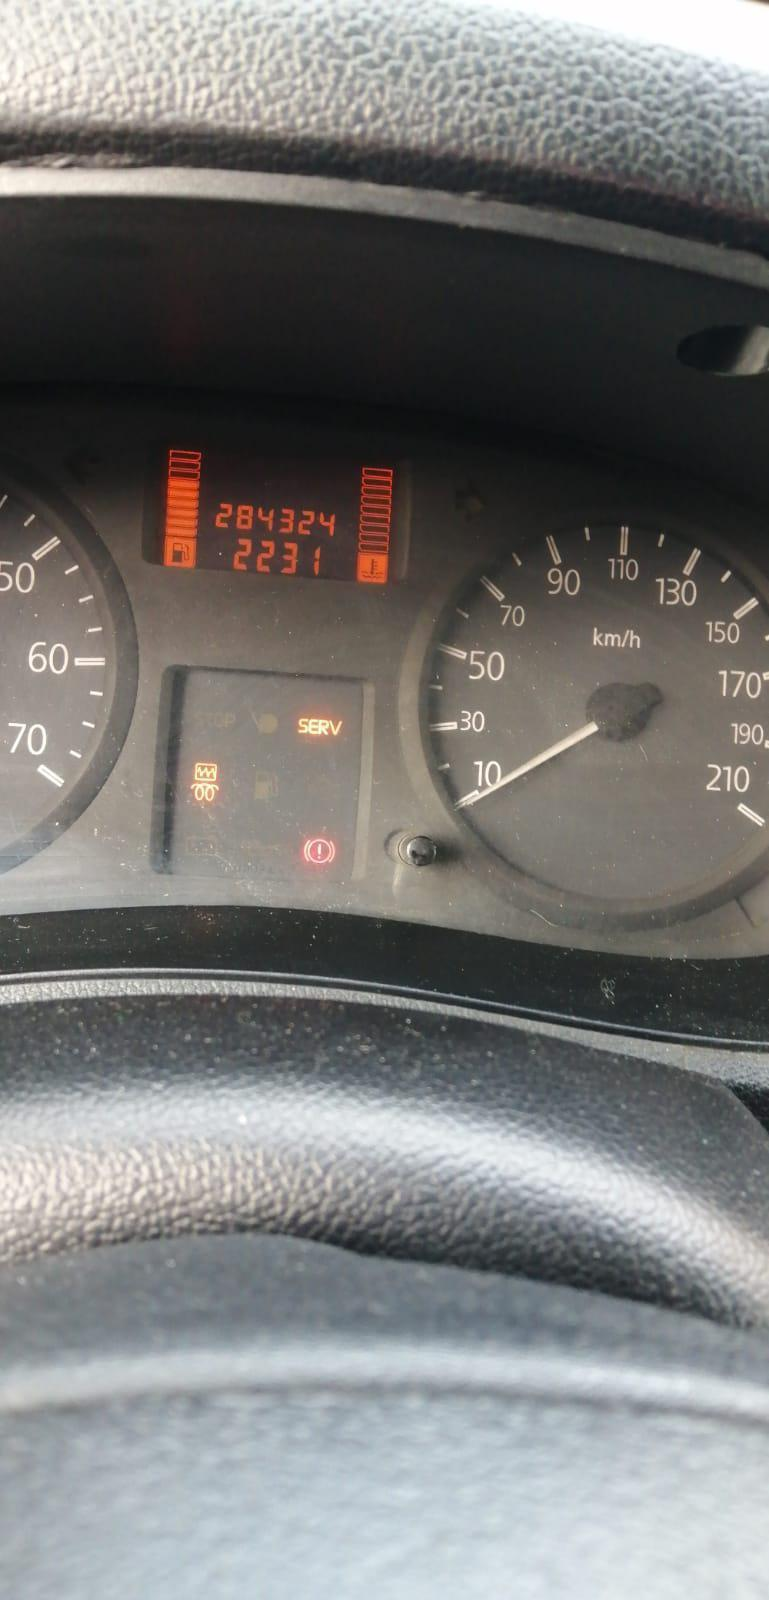1: (312, 545, 320, 576)
2: (255, 539, 275, 573), (232, 538, 252, 570), (297, 510, 315, 535), (214, 502, 232, 528)
3: (279, 542, 298, 574), (277, 508, 294, 533)
4: (257, 507, 274, 532), (318, 510, 335, 536)
8: (235, 504, 253, 529)
odometer: (138, 427, 417, 588)
